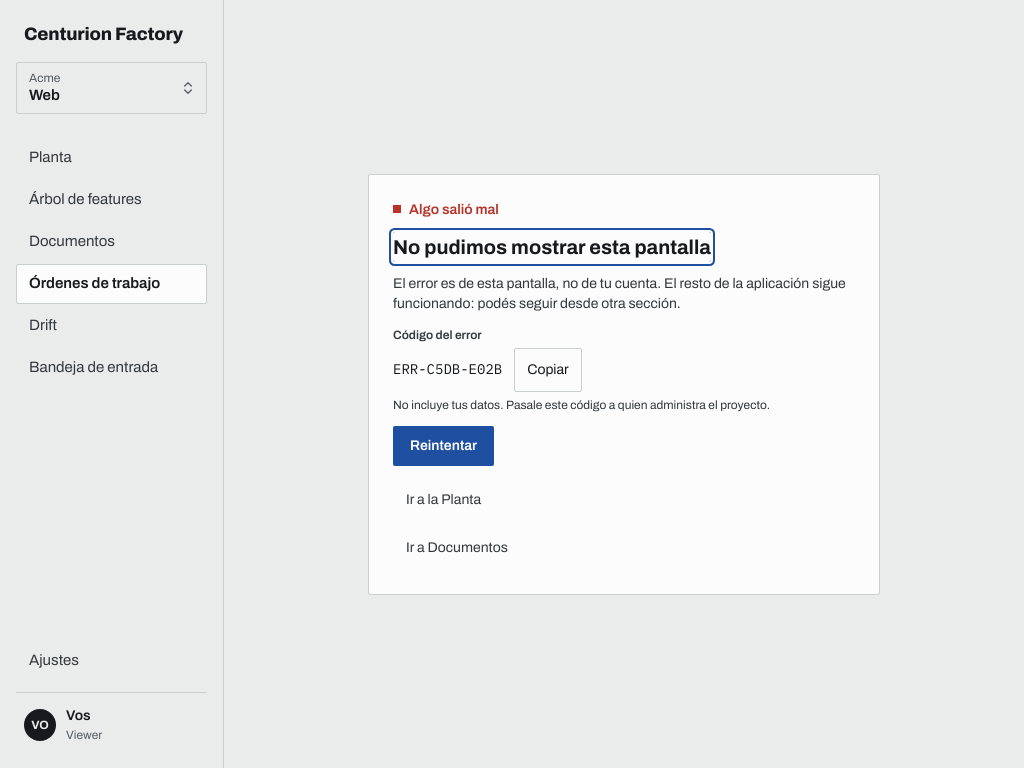
Test: SDD-103 D6 · «Reintentar» descarta la lectura que tumbó la pantalla › el envelope inesperado tumba la pantalla y, ya sin la causa, «Reintentar» pide de nuevo y dibuja las filas
This screenshot has width=1024, height=768.
Expected: the heading "No pudimos mostrar esta pantalla" is shown, [393,232,711,262]
Expected: the navigation bar named "Navegación principal" is shown, [16,138,207,388]
Click the button "Reintentar" at (444, 446), box [393,426,494,466]
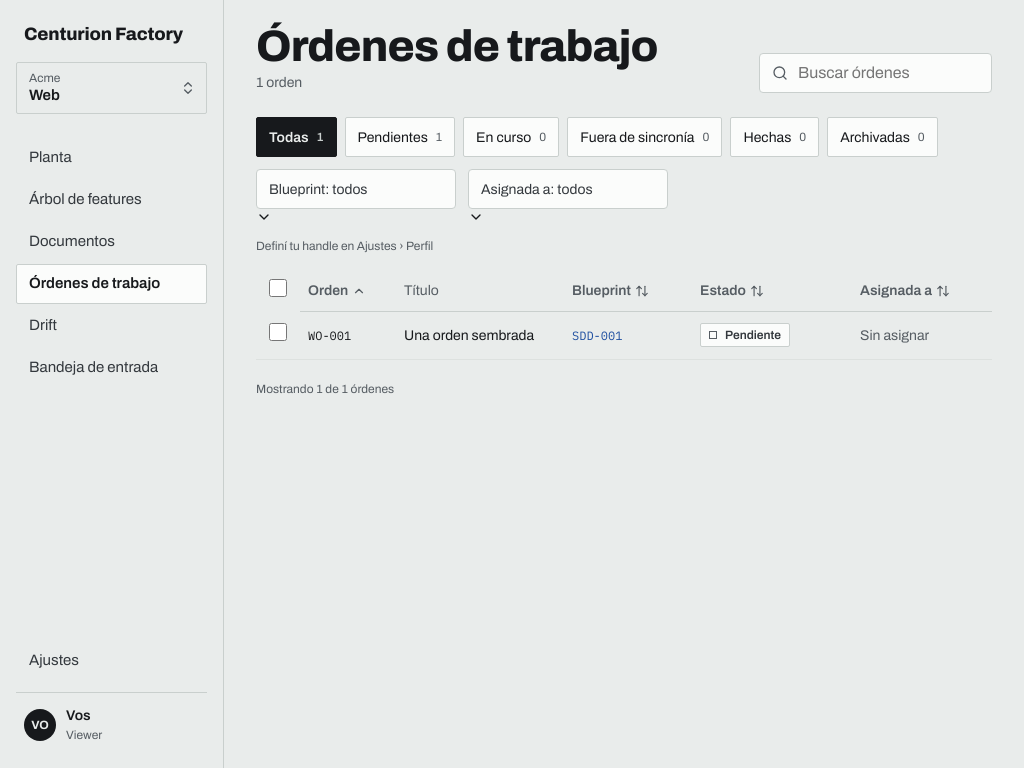
Expected: the heading "Órdenes de trabajo" is shown, [256,24,658,68]
Expected: the text "WO-001" is shown, [308,328,351,342]
Expected: the heading "No pudimos mostrar esta pantalla" is gone
